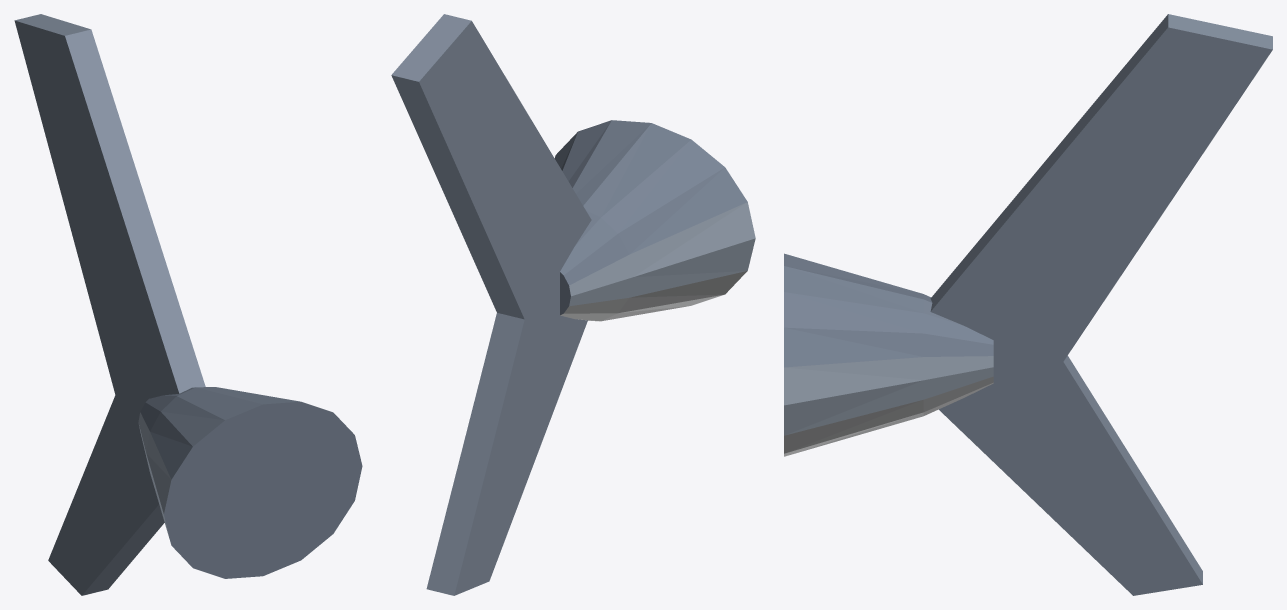
File: SharkBossTail.fbx
The picture shows the model from 3 angles, left to right: view 1: azimuth 30°, elevation 25°; view 2: azimuth 150°, elevation 25°; view 3: azimuth 270°, elevation 25°; orthographic projection. The views are drawn at different scales.
Visible parts, largest first — view 1: SharkBossTail; view 2: SharkBossTail; view 3: SharkBossTail.
Part boxes in pixels (x1=…): SharkBossTail: x1=14, y1=14, x2=362, y2=595; SharkBossTail: x1=391, y1=14, x2=755, y2=595; SharkBossTail: x1=784, y1=14, x2=1272, y2=595.
Size of the model in its own units: 30 by 79.05 by 61.6.
